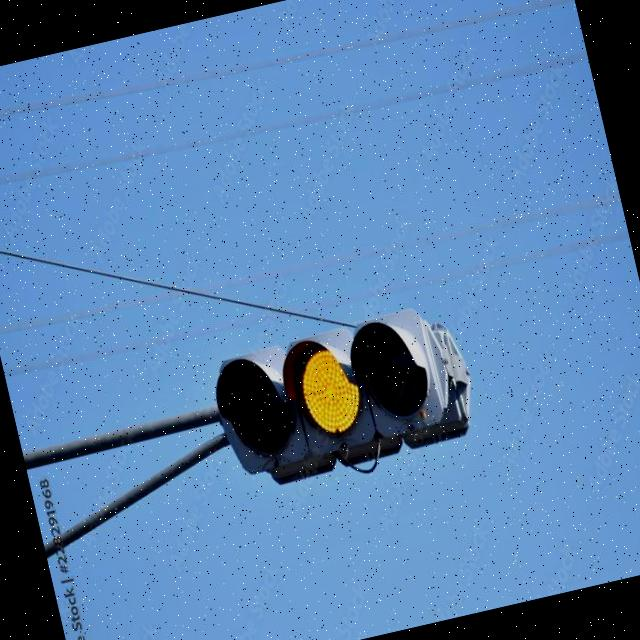yellow_light: (282, 332, 369, 450)
